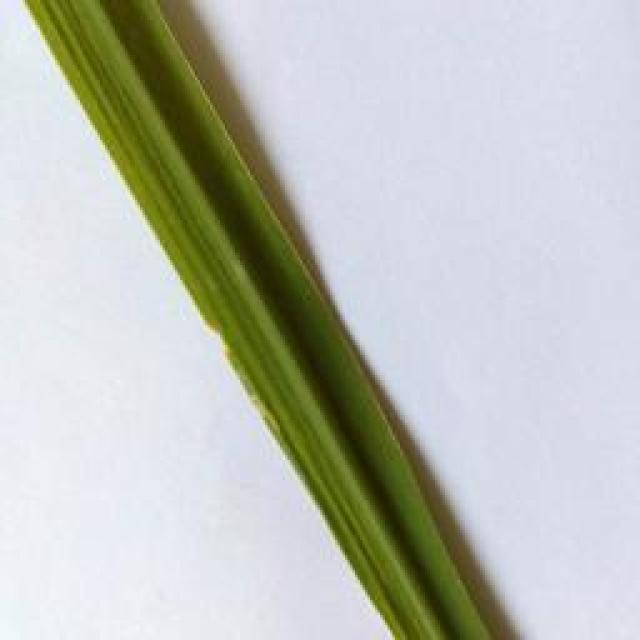Healthy-Plant: (24, 0, 494, 640)
